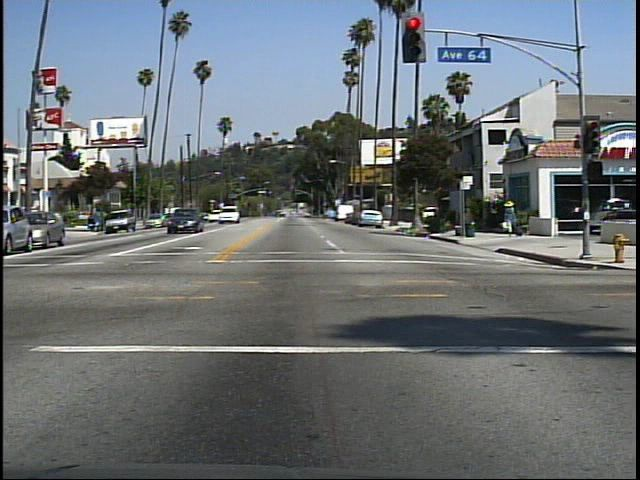person: (498, 194, 525, 245)
